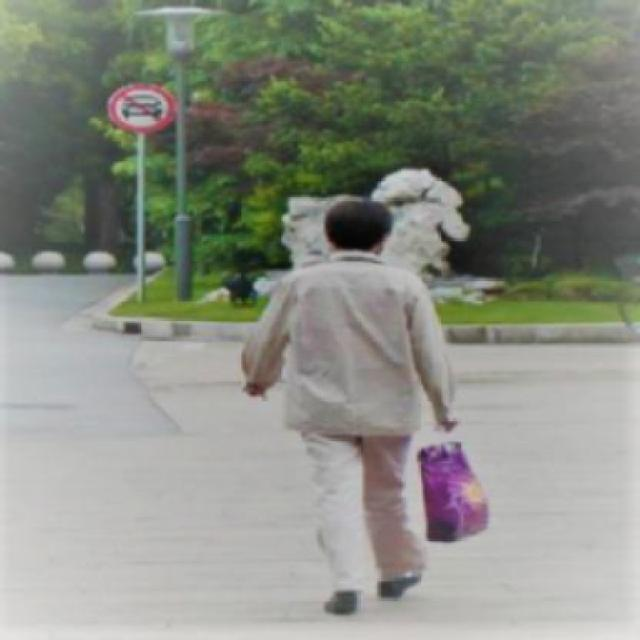Person: (236, 195, 462, 612)
